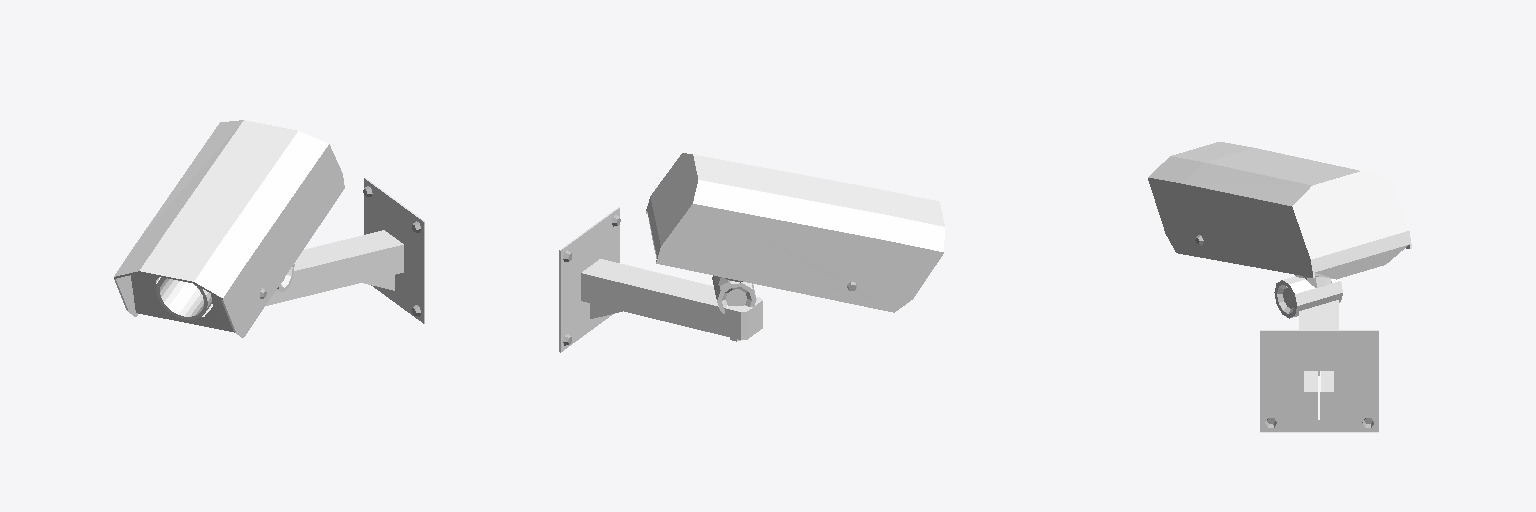
3 renders of one model, left to right at view 1: azimuth 30°, elevation 25°; view 2: azimuth 150°, elevation 25°; view 3: azimuth 270°, elevation 25°, orthographic.
Parts seen in each view (by area): view 1: bdl_fangshexiangtou1; view 2: bdl_fangshexiangtou1; view 3: bdl_fangshexiangtou1.
Boxes of the visible parts, <box> form: bdl_fangshexiangtou1: <box>114,120,424,337</box>; bdl_fangshexiangtou1: <box>559,153,944,352</box>; bdl_fangshexiangtou1: <box>1148,142,1411,432</box>.
Size of the model in its own units: 46.67 by 27.74 by 33.58.
Materials: 3 (3 with a texture image).